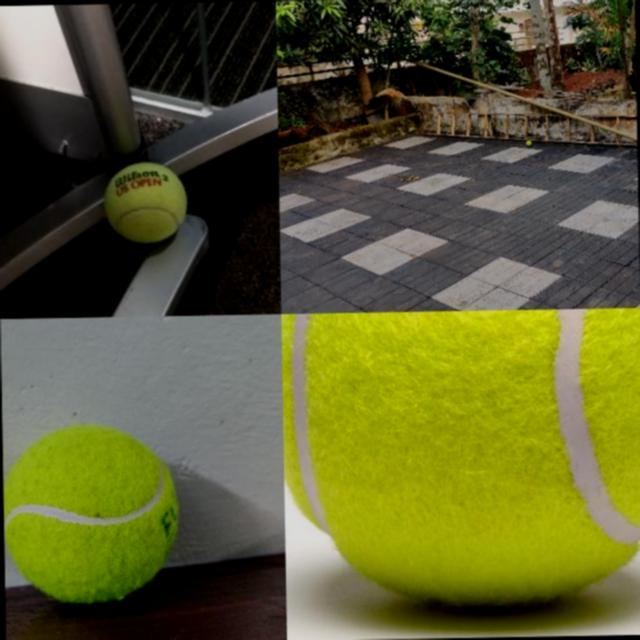tennis-ball: (281, 307, 640, 615), (2, 422, 180, 604), (102, 160, 188, 244), (525, 140, 531, 146)
